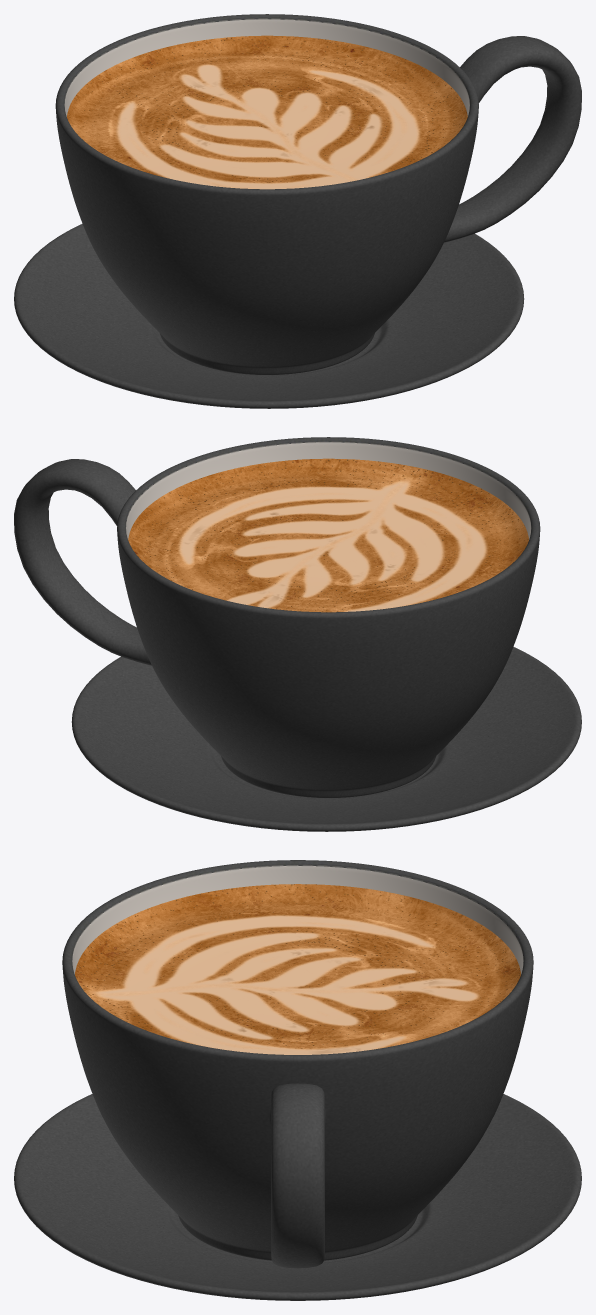
The model's file is coffee_latte_in_mug_with_saucer.glb.
The picture shows the model from 3 angles, top to bottom: view 1: azimuth 30°, elevation 25°; view 2: azimuth 150°, elevation 25°; view 3: azimuth 270°, elevation 25°; orthographic projection. The views are drawn at different scales.
Visible parts, largest first — view 1: Object_3, Object_2, Object_4; view 2: Object_3, Object_2, Object_4; view 3: Object_3, Object_2, Object_4.
Boxes of the visible parts, x1,y1,x2,y2 form: Object_3: (55,14,581,374); Object_2: (67,35,467,189); Object_4: (14,224,524,408); Object_3: (14,437,540,797); Object_2: (128,458,528,612); Object_4: (71,647,581,831); Object_3: (62,860,533,1268); Object_2: (75,884,520,1054); Object_4: (14,1094,581,1300).
Size of the model in its own units: 15.15 by 6.78 by 12.69.
2 materials, 2 textured.
